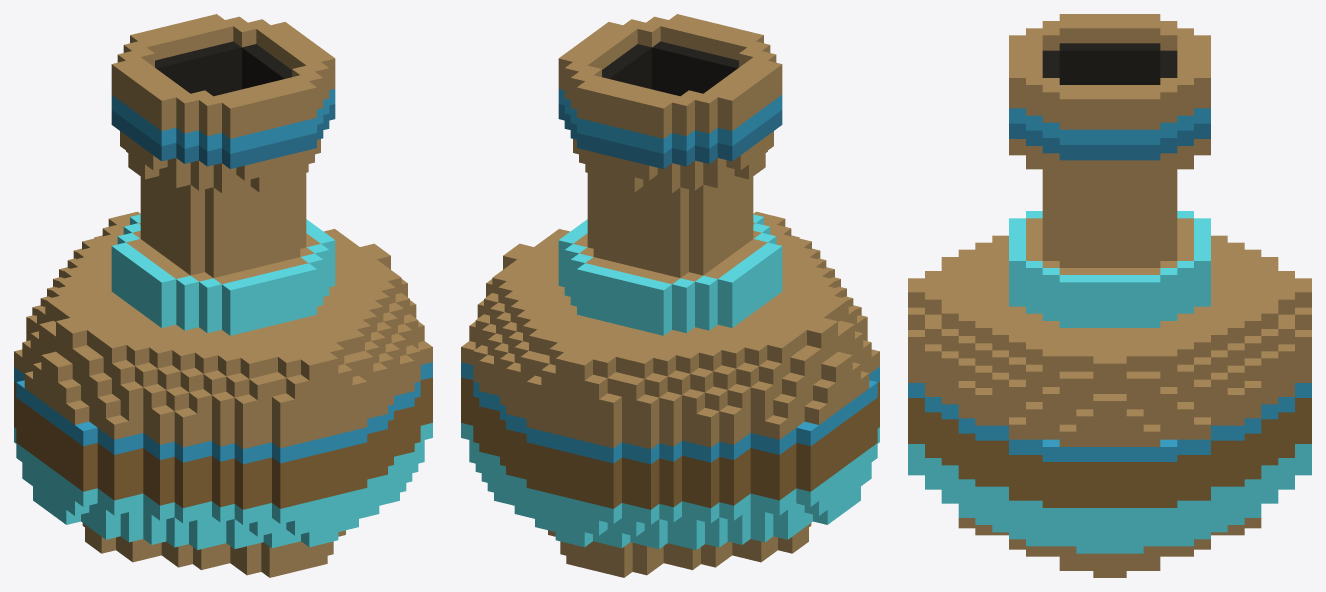
Rendered from Medieval Assets-53-Decoration - Desert - Urn - Variant8.obj.
3 views of the same model, side by side, from view 1: azimuth 30°, elevation 25°; view 2: azimuth 150°, elevation 25°; view 3: azimuth 270°, elevation 25° (orthographic).
Parts seen in each view (by area): view 1: Decoration - Desert - Urn - Variant8; view 2: Decoration - Desert - Urn - Variant8; view 3: Decoration - Desert - Urn - Variant8.
Boxes of the visible parts, x1=… form: Decoration - Desert - Urn - Variant8: x1=14, y1=14, x2=432, y2=577; Decoration - Desert - Urn - Variant8: x1=461, y1=14, x2=879, y2=577; Decoration - Desert - Urn - Variant8: x1=908, y1=14, x2=1311, y2=577.
Size of the model in its own units: 2.4 by 3 by 2.4.
Materials: 1 (1 with a texture image).
